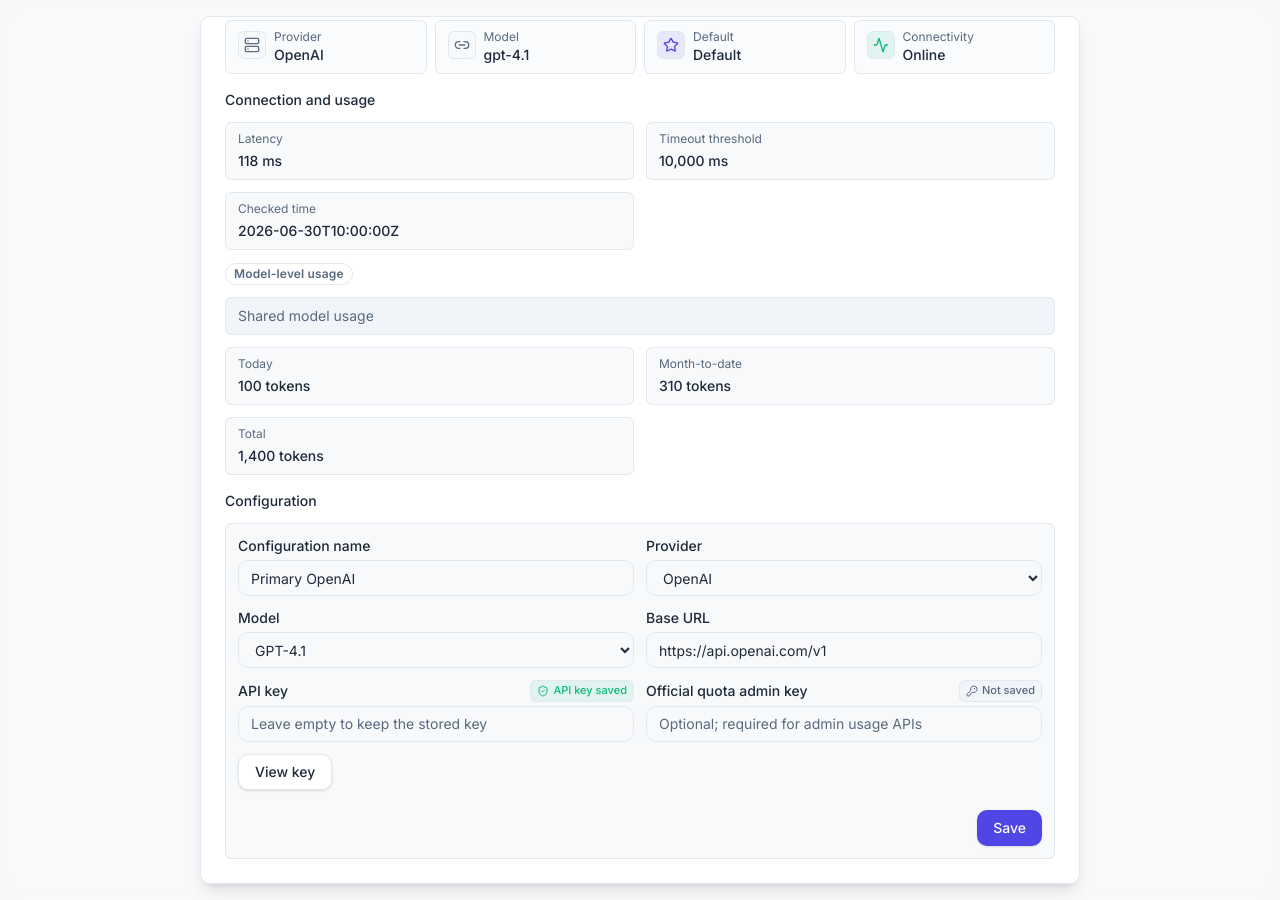
ModelDetailsDrawer › shows API key presence and reveals raw key only through the explicit reveal flow
(page scrolled)
Expected: the dialog "Primary OpenAI" shows "API key saved", [553,683,627,697]
Click the button "View key" at (285, 772), box [238,754,332,790]
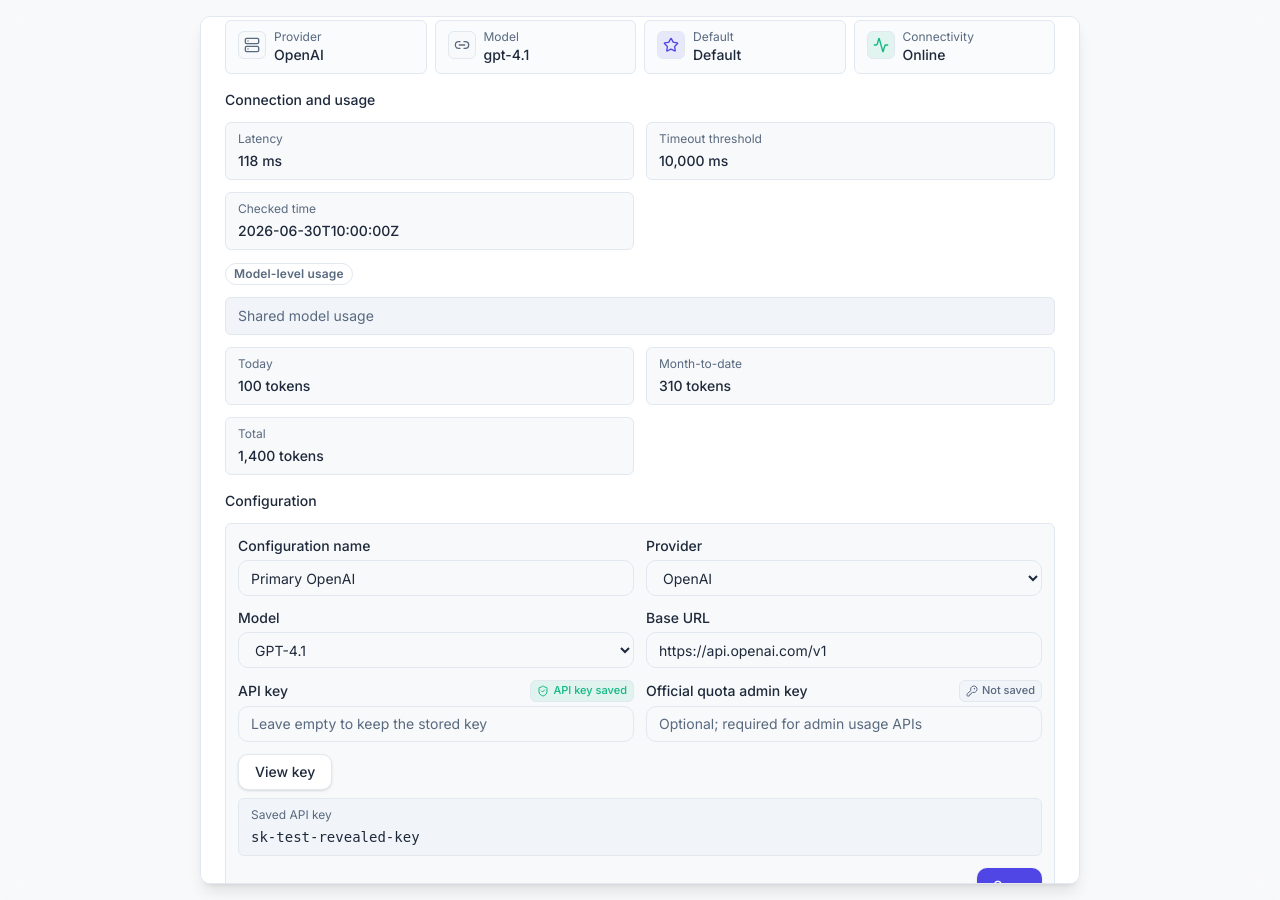
Expected: the text "sk-test-revealed-key" is shown, [251,829,420,845]
